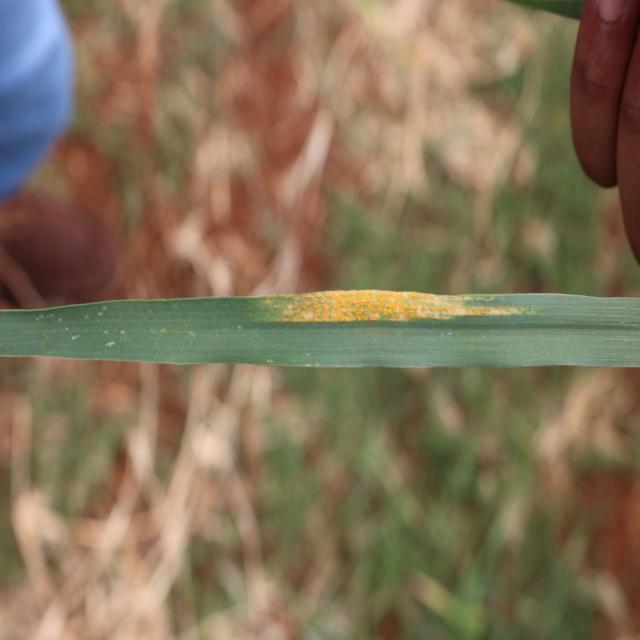Stripe Rust: (260, 292, 536, 319)
